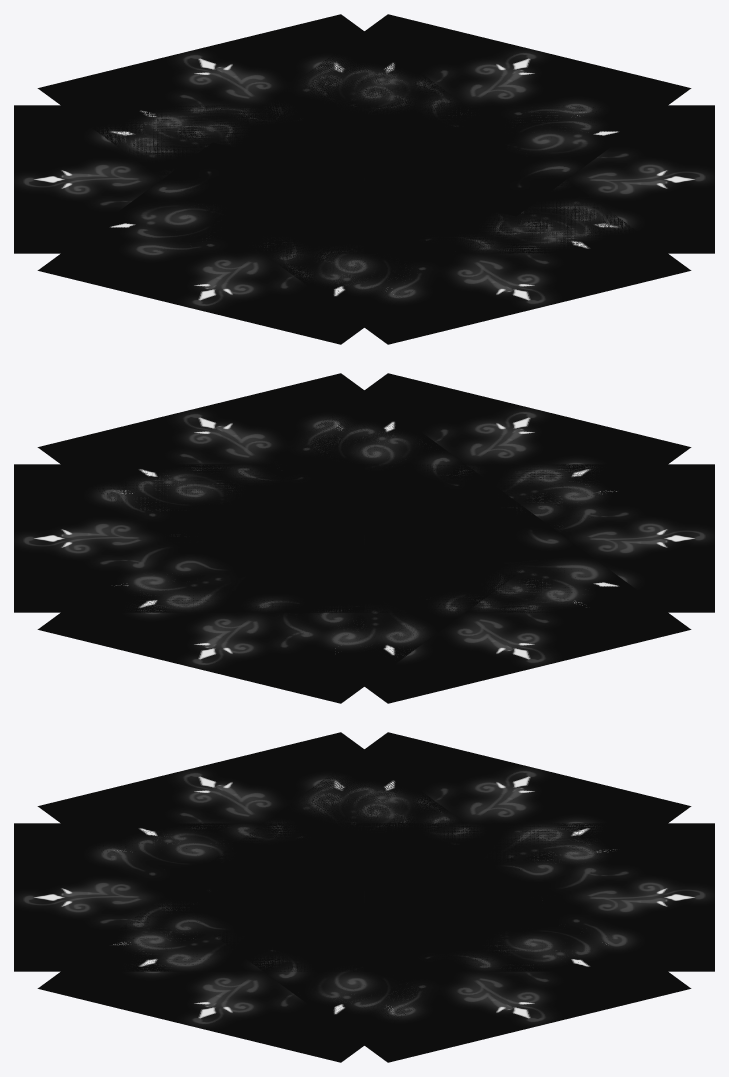
The model's file is FxPlane_Flow_2.fbx.
The picture shows the model from 3 angles, top to bottom: view 1: azimuth 30°, elevation 25°; view 2: azimuth 150°, elevation 25°; view 3: azimuth 270°, elevation 25°; orthographic projection.
Visible parts, largest first — view 1: FxPlane_Flow_2; view 2: FxPlane_Flow_2; view 3: FxPlane_Flow_2.
Part boxes in pixels (x1,y1,x2,y2): FxPlane_Flow_2: (14,14,714,344); FxPlane_Flow_2: (14,373,714,703); FxPlane_Flow_2: (14,732,714,1062).
Bounding box in the file's own units: 571 × 3.14e-14 × 512.
1 material, 1 textured.
